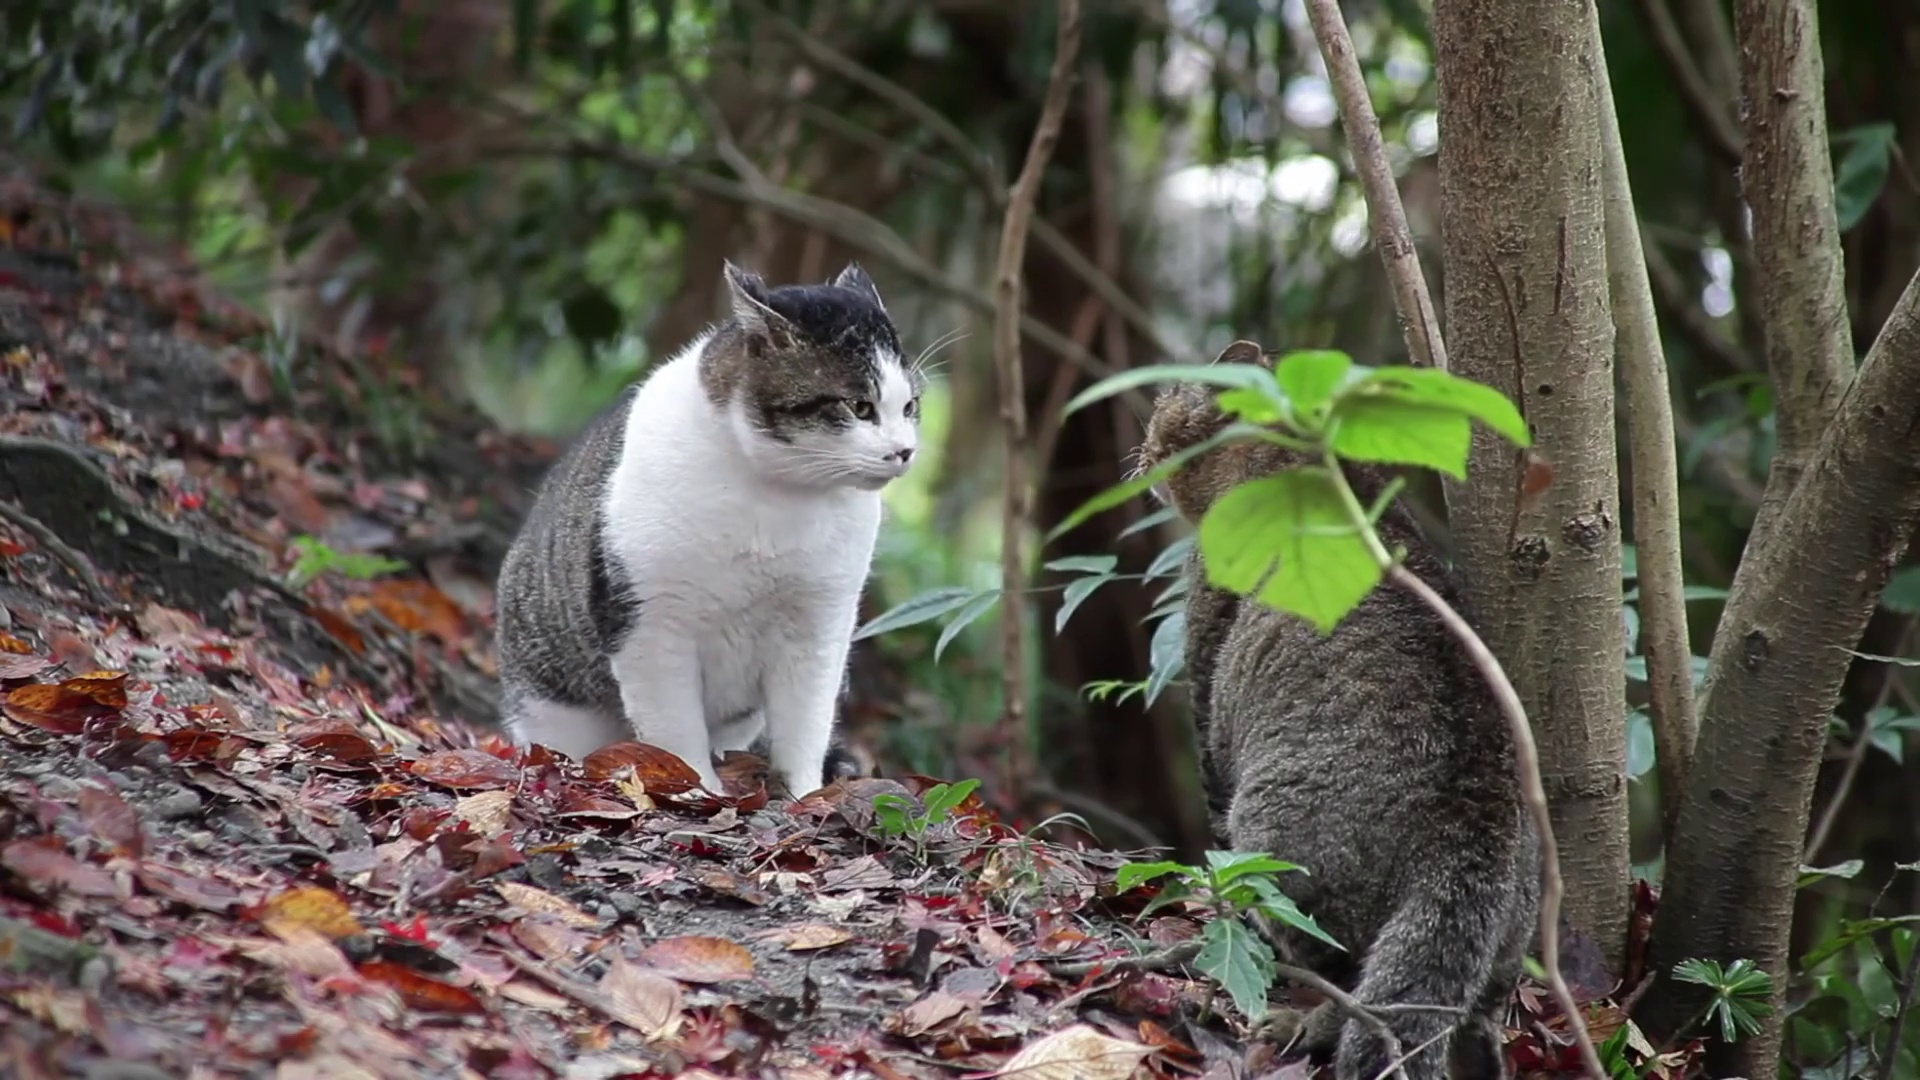black-white: (497, 255, 914, 804)
pure black: (1134, 338, 1542, 1080)
